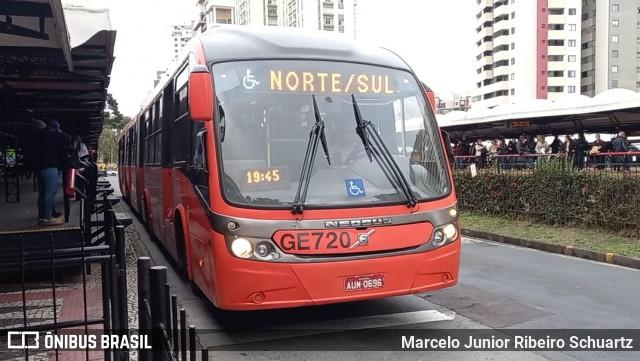NORTE SUL: (266, 67, 396, 96)
